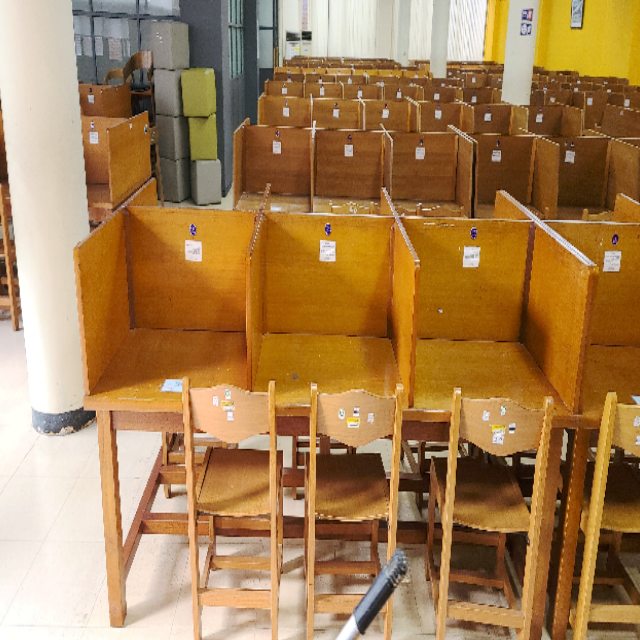empty: (82, 205, 245, 491), (419, 223, 584, 496), (250, 215, 410, 483)
